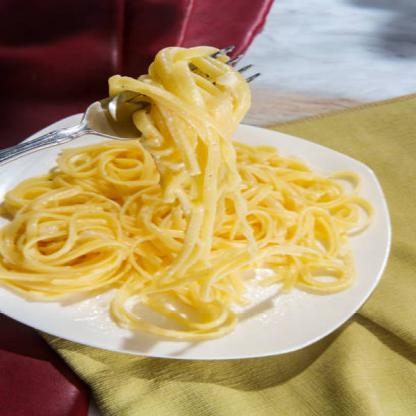Noodles: (0, 45, 375, 340)
